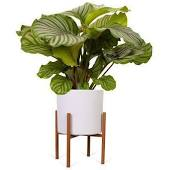plant: (14, 1, 155, 168)
